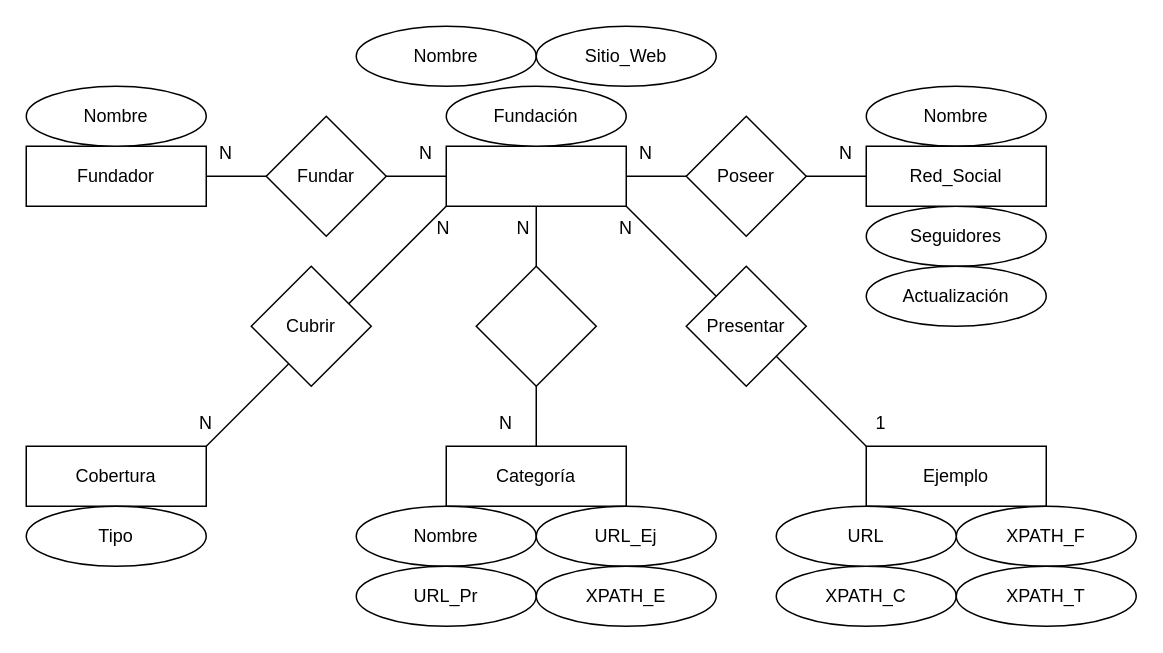
The diagram is 1163 pixels wide and 653 high, and some of its shapes have lost their labels. The centre of each missing label's shape, as x and y in pixels:
Abarcar: the point at 535,325
Prensa: the point at 535,175
